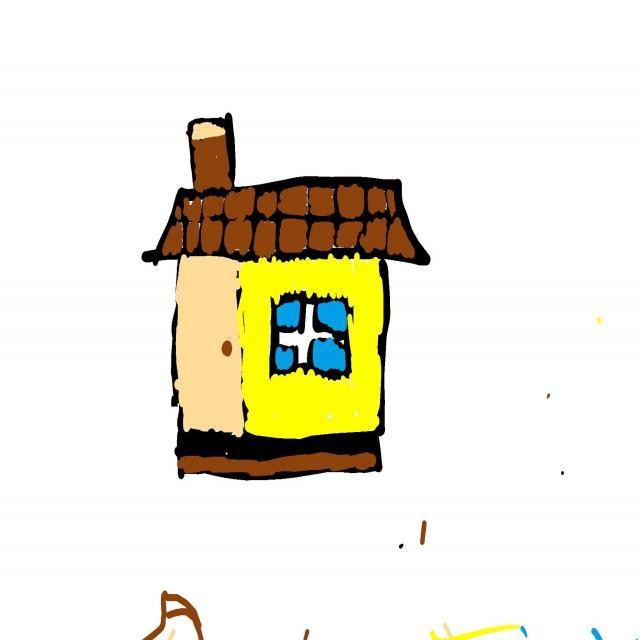chimney: (188, 113, 235, 192)
door: (174, 256, 245, 437)
house: (143, 114, 431, 480)
roof: (145, 177, 431, 265)
wall: (171, 254, 383, 438)
window: (271, 292, 353, 380)
